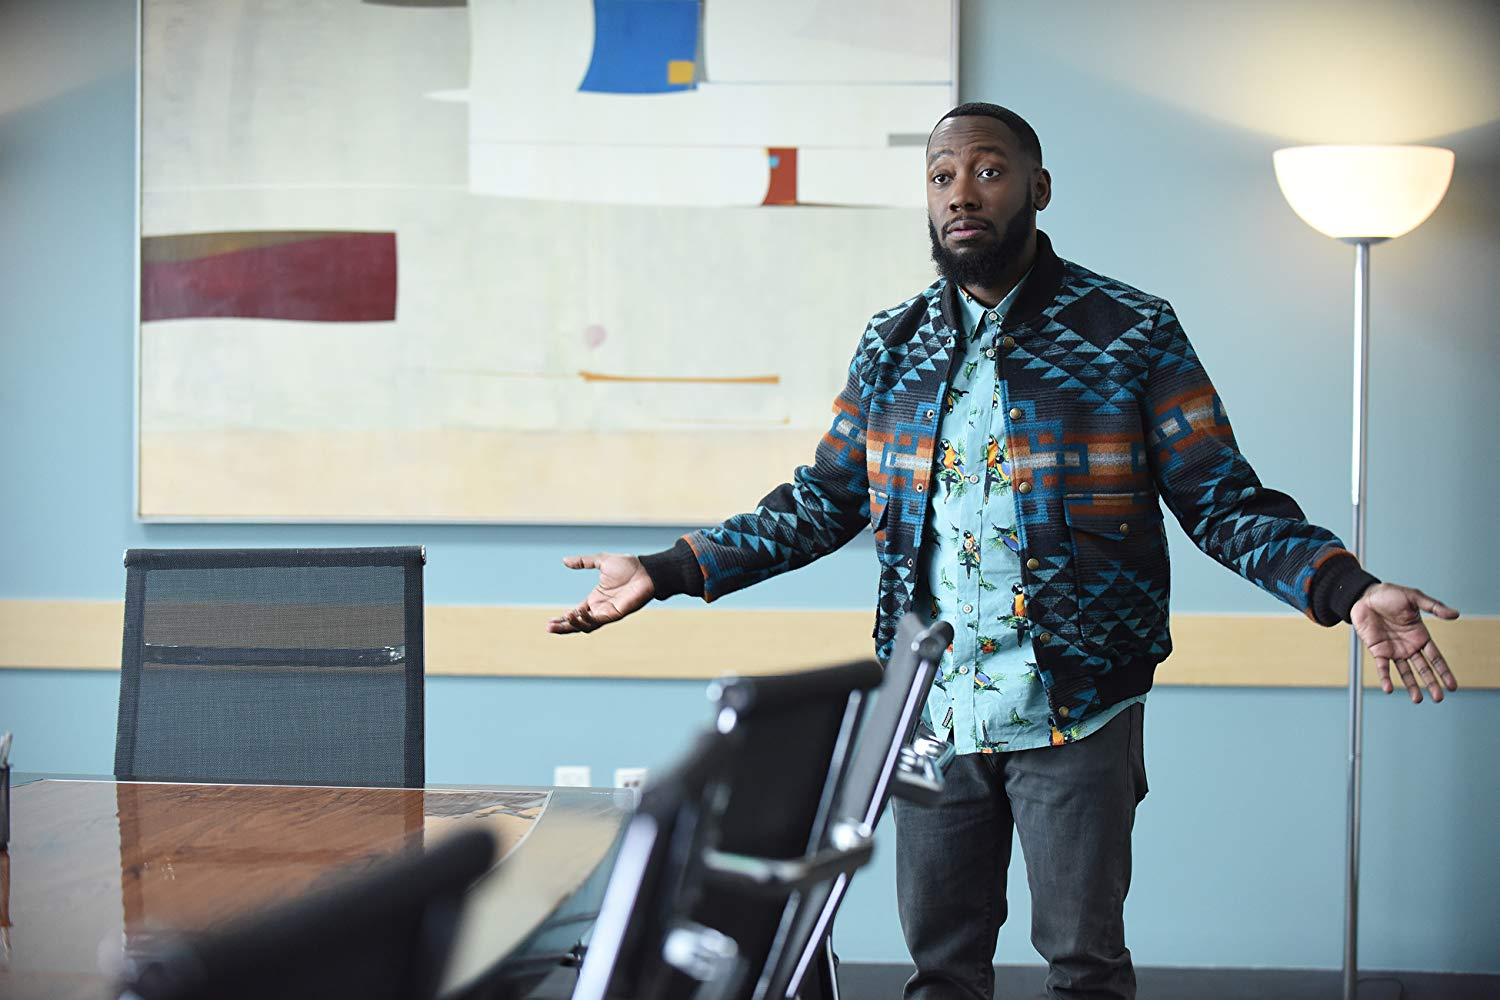person: (559, 111, 1459, 1000)
